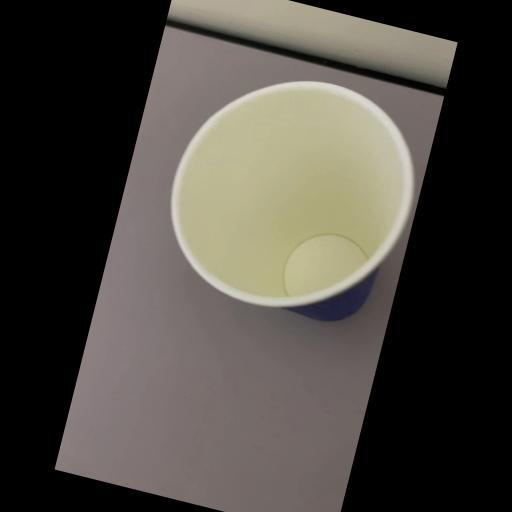lp_paper_cup: (146, 52, 440, 340)
